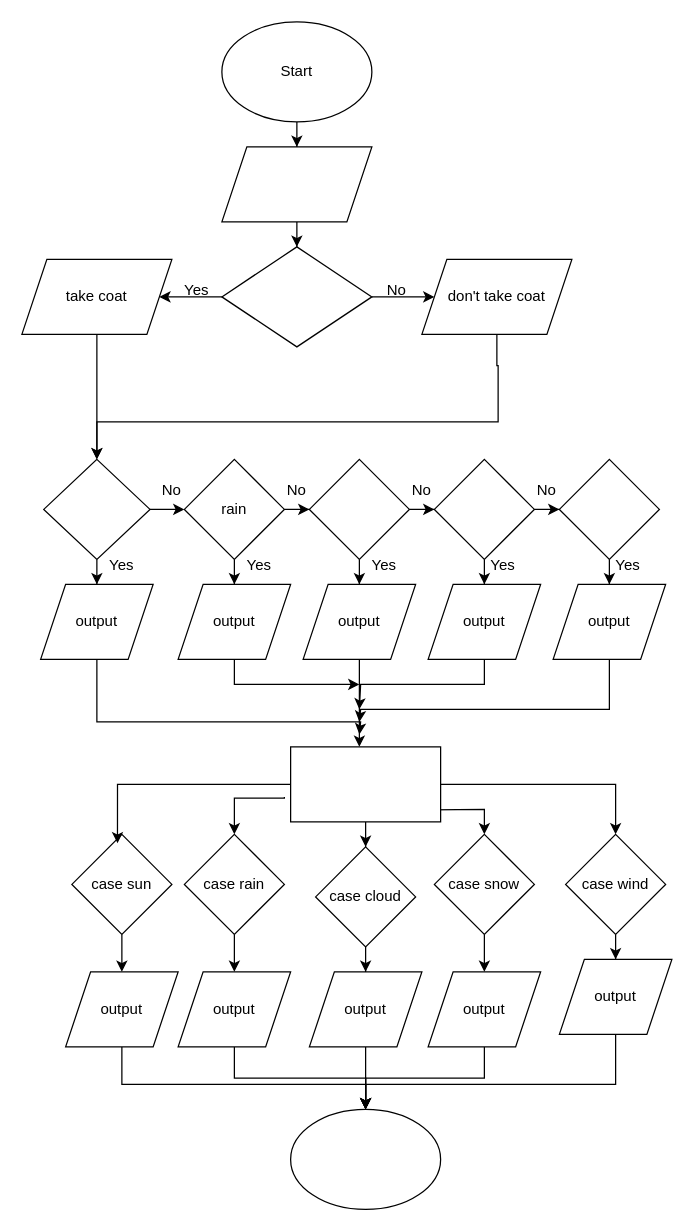
This 694x1231 diagram has some shape labels left out. The shapes that lost their labels are listed below. From the top down, each one's box as (x1, y1, x2, y2) in pixels, then its label:
(221, 146, 372, 222): wheather
(221, 246, 372, 347): is rainy/snowy?
(42, 458, 150, 559): sun
(308, 458, 409, 559): cloud
(433, 458, 534, 559): snow
(558, 458, 659, 559): wind
(289, 746, 441, 822): switch wheather
(289, 1108, 441, 1209): End
